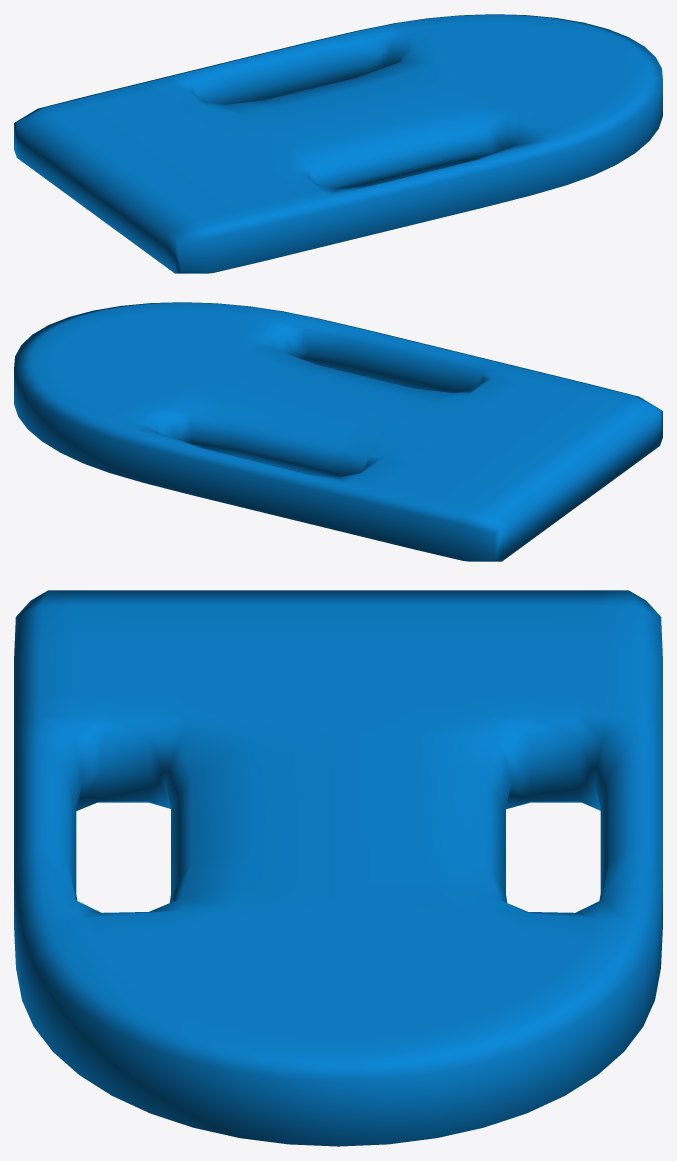
Rendered from Flat_Buoy.fbx.
3 renders of one model, top to bottom at view 1: azimuth 30°, elevation 25°; view 2: azimuth 150°, elevation 25°; view 3: azimuth 270°, elevation 25°, orthographic. The views are drawn at different scales.
Parts seen in each view (by area): view 1: Flat_Buoy; view 2: Flat_Buoy; view 3: Flat_Buoy.
Boxes of the visible parts, x1,y1,x2,y2 form: Flat_Buoy: (14, 14, 662, 273); Flat_Buoy: (14, 302, 662, 561); Flat_Buoy: (14, 590, 662, 1146).
Bounding box in the file's own units: 384 × 31.69 × 214.
